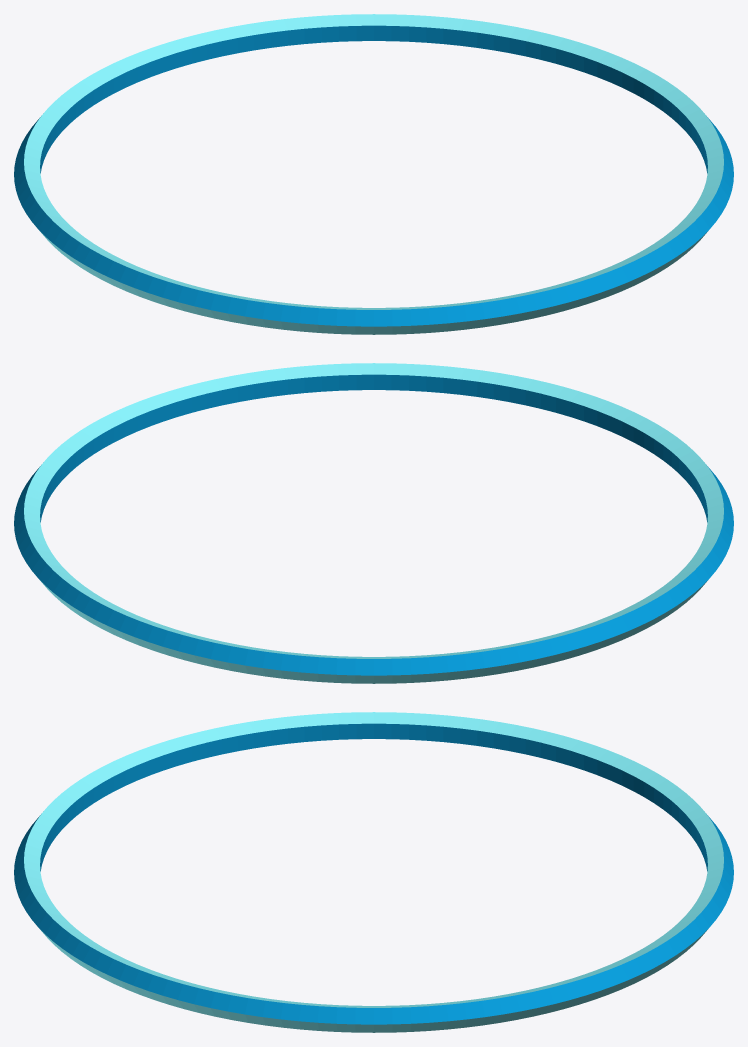
The model's file is target.glb.
3 renders of one model, top to bottom at view 1: azimuth 30°, elevation 25°; view 2: azimuth 150°, elevation 25°; view 3: azimuth 270°, elevation 25°, orthographic.
Parts seen in each view (by area): view 1: Torus; view 2: Torus; view 3: Torus.
Part boxes in pixels (box(x1,y1,x2,y2)): Torus: box(14, 14, 733, 334); Torus: box(14, 363, 733, 683); Torus: box(14, 712, 733, 1032).
Size of the model in its own units: 1 by 0.038 by 1.
